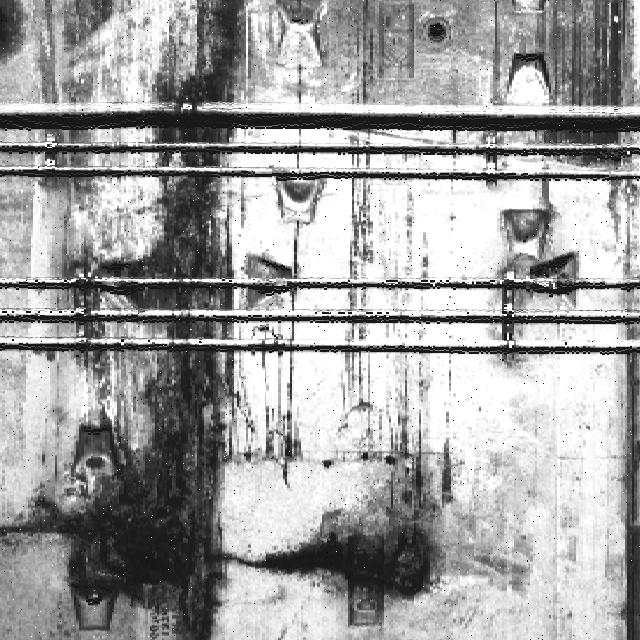leakage: (74, 0, 260, 639), (340, 160, 433, 445), (261, 463, 452, 601), (520, 1, 639, 163), (347, 2, 382, 107)
